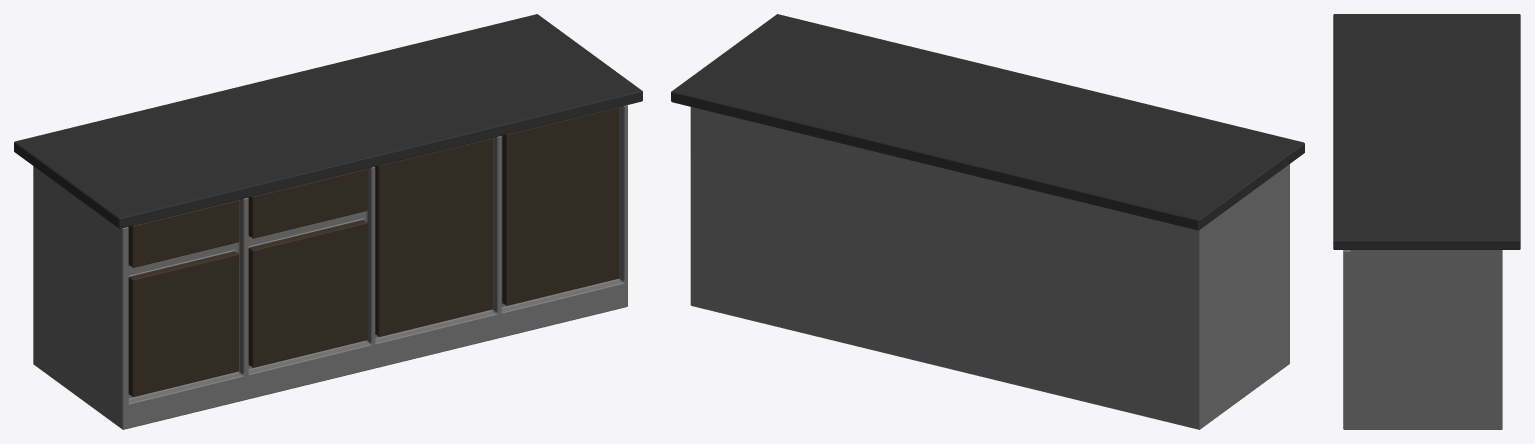
File: TearoomCounter_NoSink.fbx
3 renders of one model, left to right at view 1: azimuth 30°, elevation 25°; view 2: azimuth 150°, elevation 25°; view 3: azimuth 270°, elevation 25°, orthographic. The views are drawn at different scales.
Parts seen in each view (by area): view 1: pCube3; view 2: pCube3; view 3: pCube3.
Boxes of the visible parts, left/top/right/bottom form: pCube3: left=14, top=14, right=642, bottom=429; pCube3: left=671, top=14, right=1304, bottom=429; pCube3: left=1333, top=14, right=1520, bottom=429.
Size of the model in its own units: 25.06 by 9.97 by 8.74.
